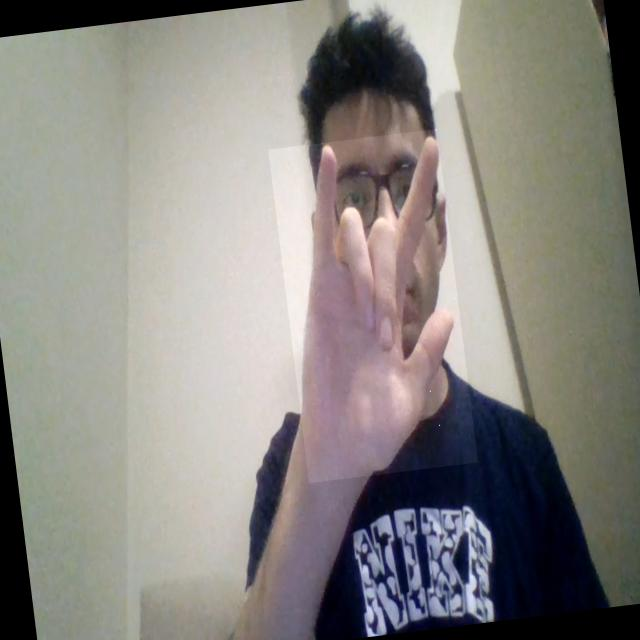iloveyou: (268, 128, 478, 482)
